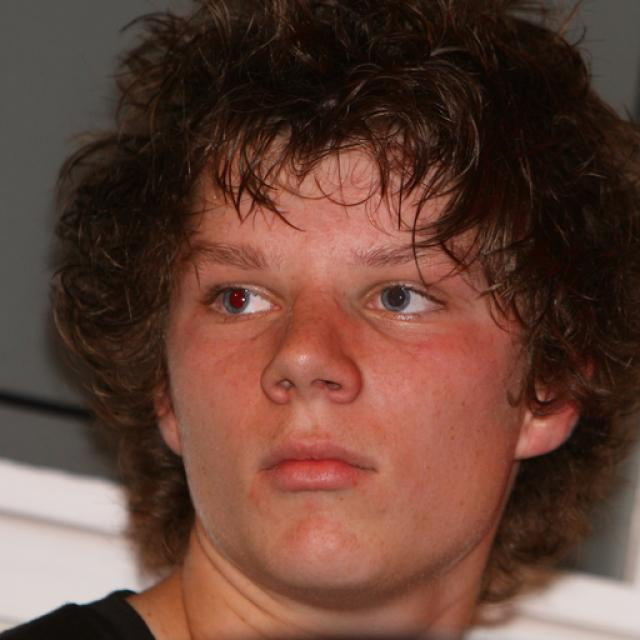neutral: (168, 143, 518, 592)
